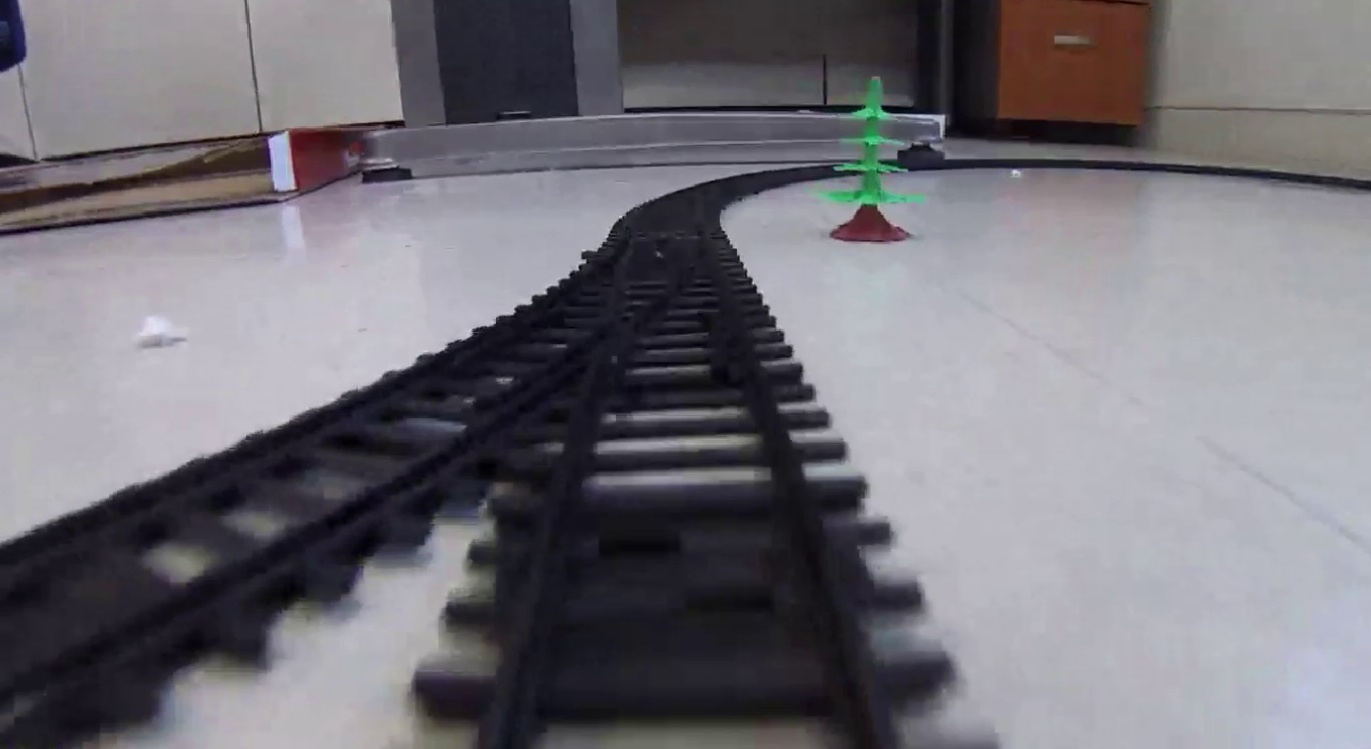tree: (823, 76, 924, 243)
